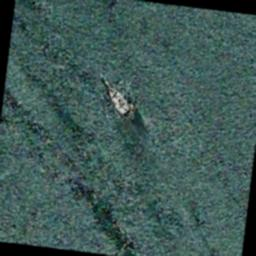boat: (98, 78, 139, 122)
